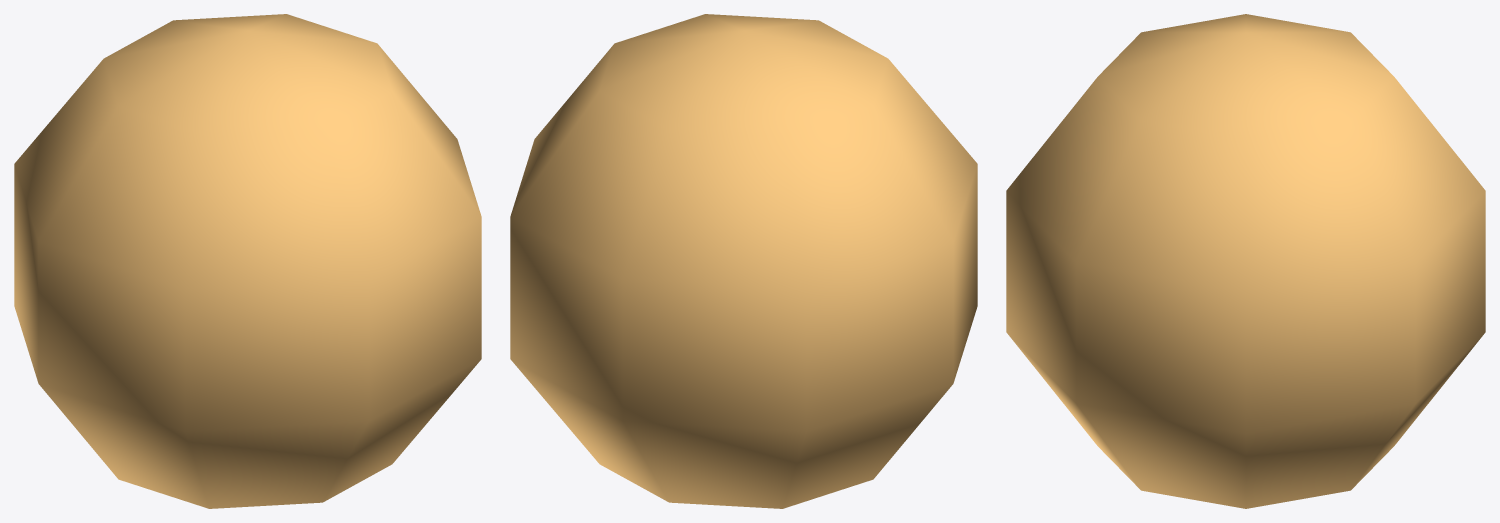
The model's file is bne_lamp_glow.dae.
3 renders of one model, left to right at view 1: azimuth 30°, elevation 25°; view 2: azimuth 150°, elevation 25°; view 3: azimuth 270°, elevation 25°, orthographic.
Visible parts, largest first — view 1: glow2; view 2: glow2; view 3: glow2.
Part boxes in pixels (x1,y1,x2,y2): glow2: (14, 14, 481, 508); glow2: (510, 14, 977, 508); glow2: (1006, 14, 1485, 508).
Size of the model in its own units: 5.33 by 5.33 by 5.6.
